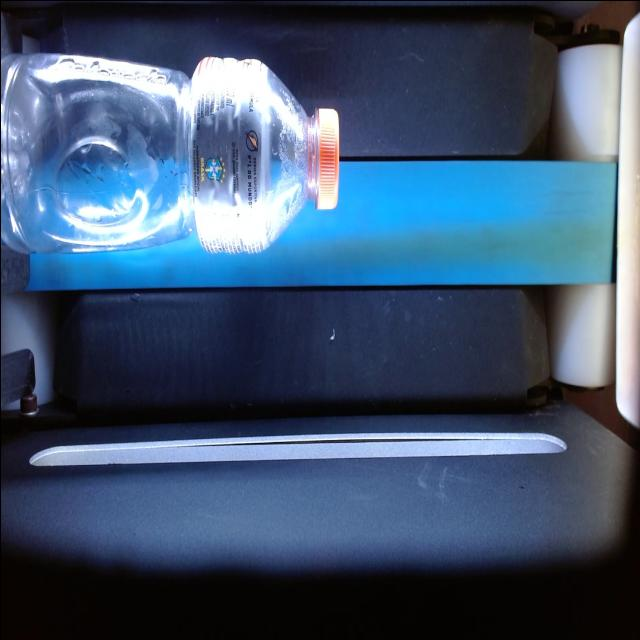bottom: (0, 16, 30, 272)
cap: (298, 103, 340, 208)
